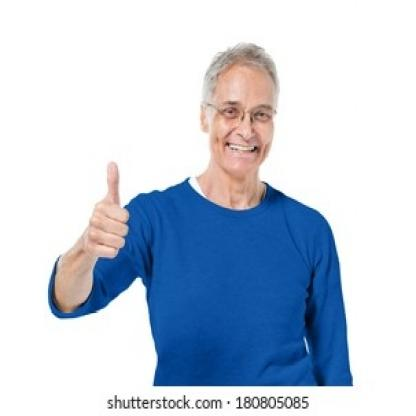Thumbs-Up: (70, 153, 152, 258)
